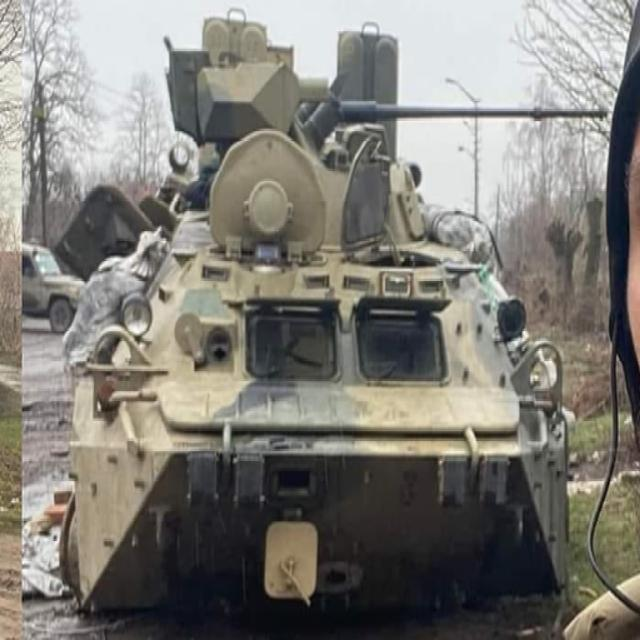APC-IFV: (62, 9, 568, 622)
